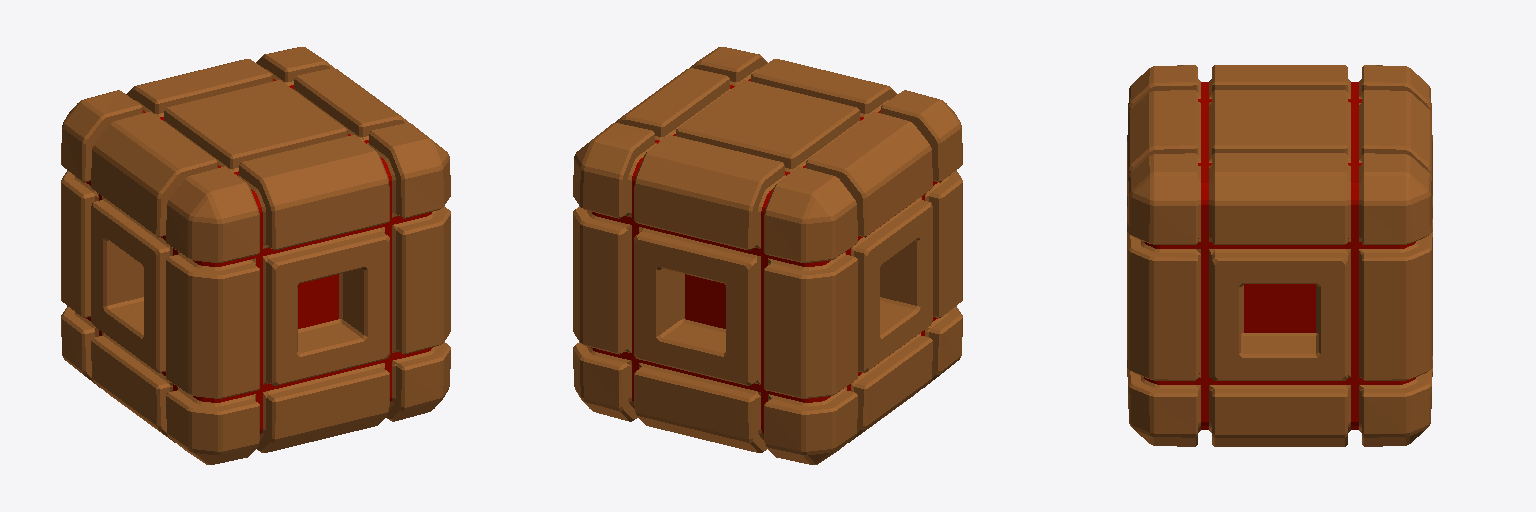
The model's file is cube_fire.obj.
The picture shows the model from 3 angles: view 1: azimuth 30°, elevation 25°; view 2: azimuth 150°, elevation 25°; view 3: azimuth 270°, elevation 25°; orthographic projection.
Visible parts, largest first — view 1: fire_cube_Cube.001; view 2: fire_cube_Cube.001; view 3: fire_cube_Cube.001.
Boxes of the visible parts, <box> form: fire_cube_Cube.001: <box>61,47,450,464</box>; fire_cube_Cube.001: <box>573,47,962,464</box>; fire_cube_Cube.001: <box>1127,65,1432,446</box>.
Bounding box in the file's own units: 2.25 × 2.25 × 2.25.